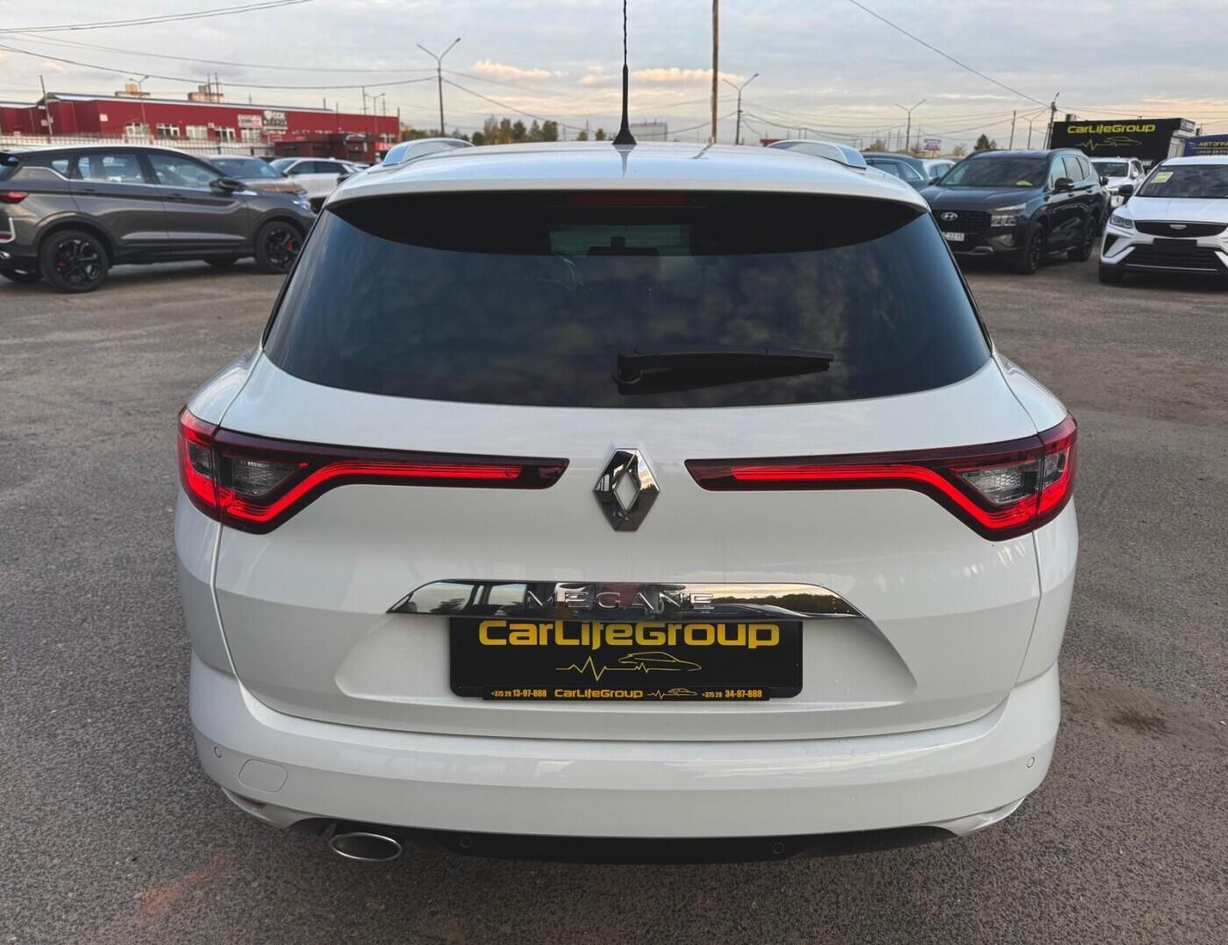Megane_2016-2020: (172, 119, 1090, 845)
